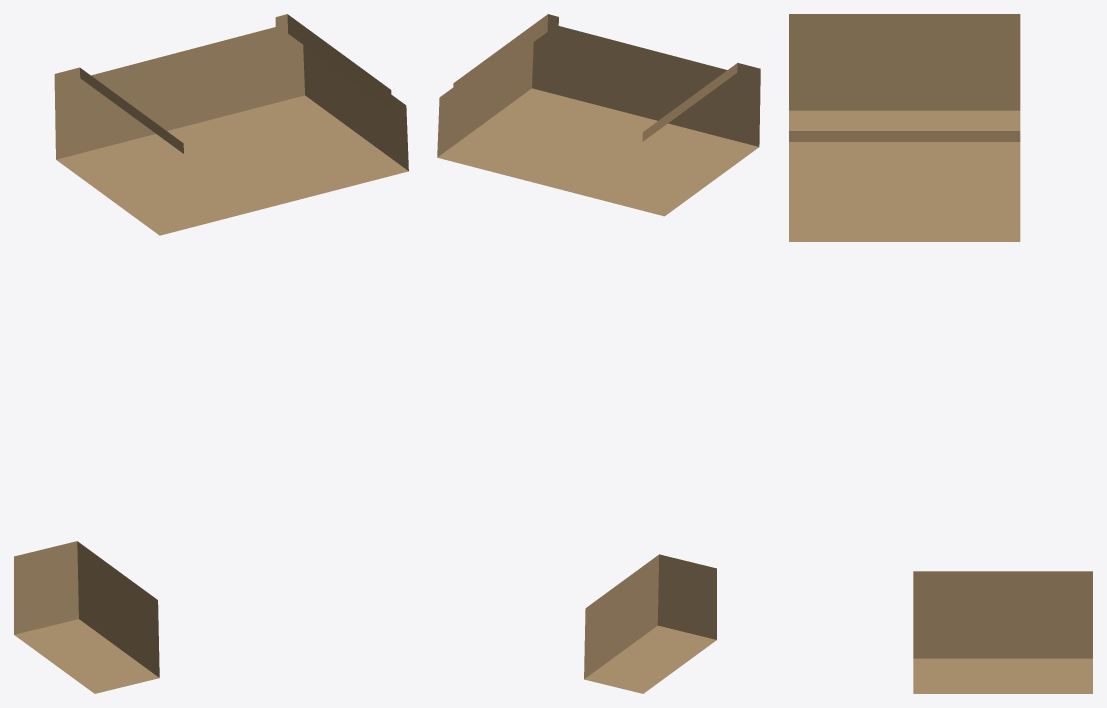
The picture shows the model from 3 angles, left to right: view 1: azimuth 30°, elevation 25°; view 2: azimuth 150°, elevation 25°; view 3: azimuth 270°, elevation 25°; orthographic projection. The views are drawn at different scales.
Visible parts, largest first — view 1: 0_0_1_1_3_2_2_0; view 2: 0_0_1_1_3_2_2_0; view 3: 0_0_1_1_3_2_2_0.
Part boxes in pixels (x1,y1,x2,y2): 0_0_1_1_3_2_2_0: (14, 14, 408, 693); 0_0_1_1_3_2_2_0: (437, 14, 760, 693); 0_0_1_1_3_2_2_0: (789, 14, 1092, 693).
Size of the model in its own units: 38.8 by 84.1 by 35.5.
